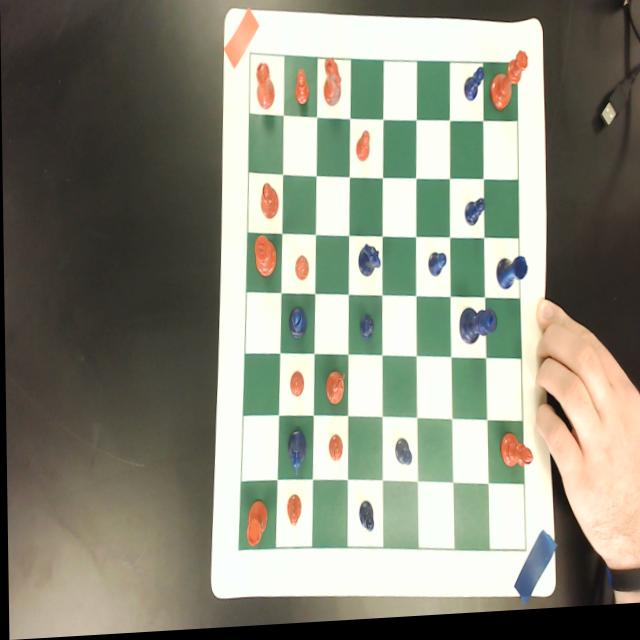B: (287, 309, 306, 343)
K: (458, 313, 496, 352)
N: (286, 431, 306, 481), (357, 249, 380, 282)
P: (463, 71, 485, 108), (464, 200, 486, 235), (357, 503, 373, 539), (426, 256, 447, 283), (393, 442, 411, 471), (358, 317, 374, 346)
R: (495, 262, 527, 298)
b: (499, 436, 531, 477), (259, 185, 278, 223)
cb: (237, 56, 524, 557)
k: (254, 237, 276, 283)
n: (322, 60, 343, 111), (323, 372, 345, 410)
p: (294, 70, 309, 111), (285, 498, 301, 531), (355, 135, 371, 166), (326, 438, 343, 465), (288, 375, 302, 400), (294, 259, 308, 284)
q: (489, 56, 528, 118)
r: (243, 502, 267, 550), (256, 63, 274, 115)
